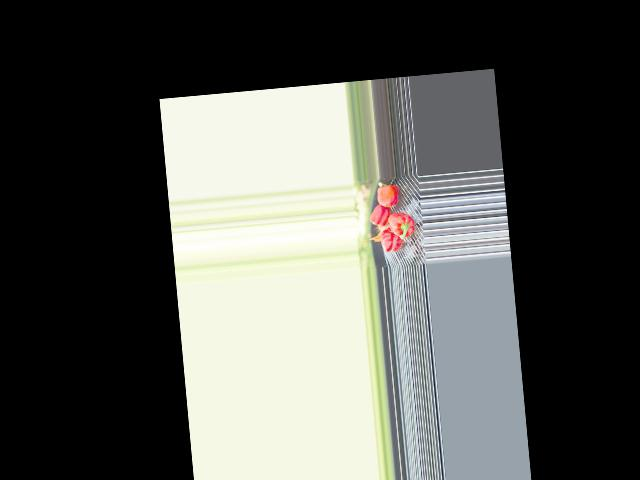bell_pepper: (379, 226, 402, 253)
